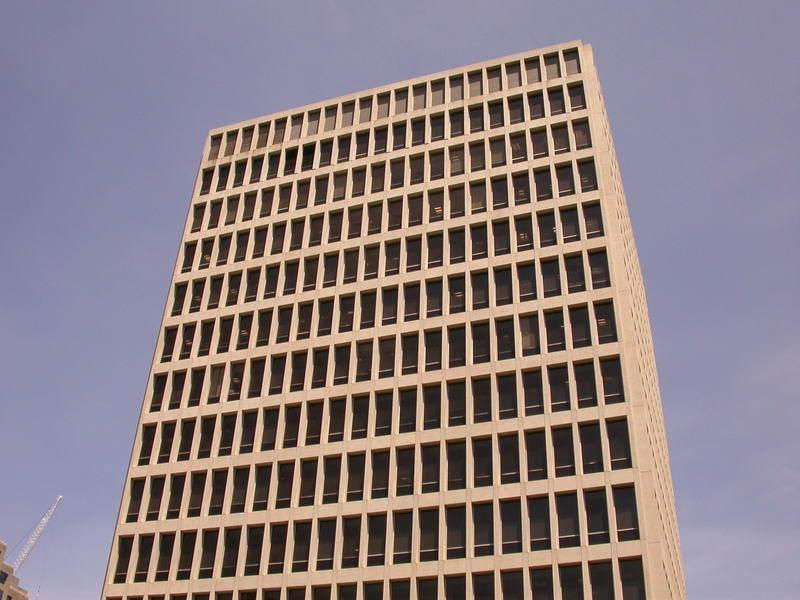building: (0, 38, 688, 600)
